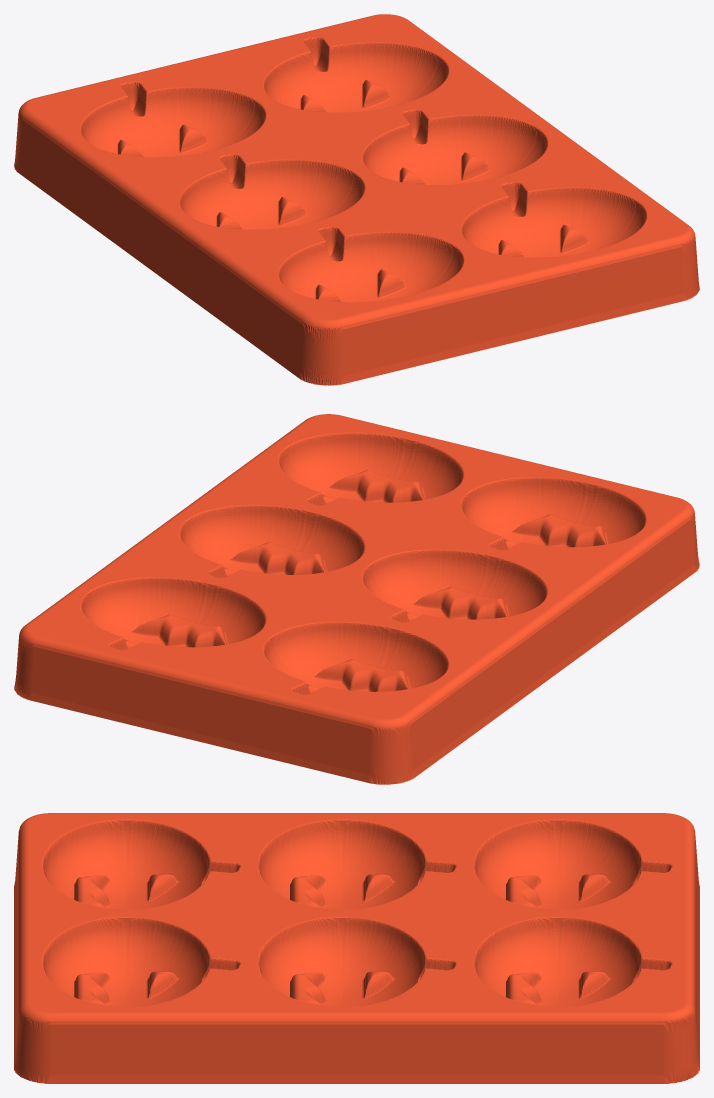
File: mold.glb
3 views of the same model, one above another, from view 1: azimuth 30°, elevation 25°; view 2: azimuth 150°, elevation 25°; view 3: azimuth 270°, elevation 25° (orthographic). The views are drawn at different scales.
Visible parts, largest first — view 1: geometry_0; view 2: geometry_0; view 3: geometry_0.
Part boxes in pixels (x1=…): geometry_0: x1=14, y1=14, x2=699, y2=385; geometry_0: x1=14, y1=414, x2=699, y2=784; geometry_0: x1=14, y1=813, x2=699, y2=1083.
Bounding box in the file's own units: 0.1211 × 0.0175 × 0.1665.
